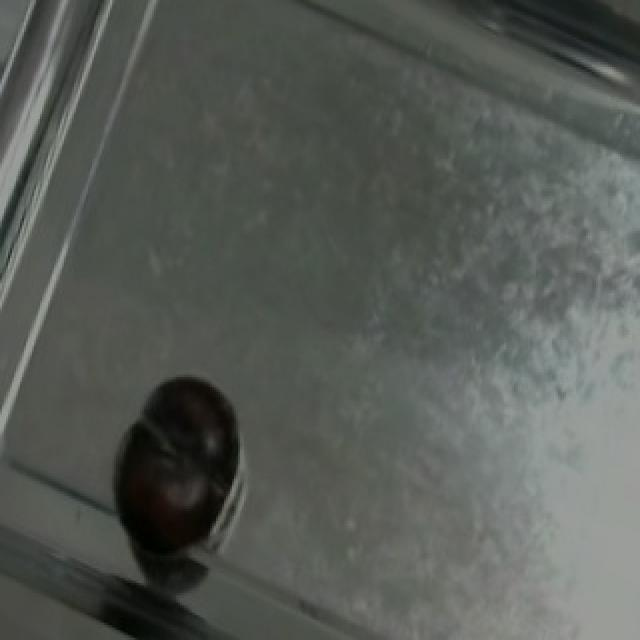Fruit: (94, 362, 252, 576)
